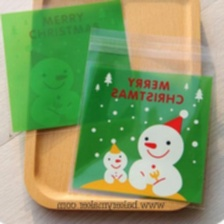snack: (62, 21, 224, 213), (0, 0, 148, 141)
